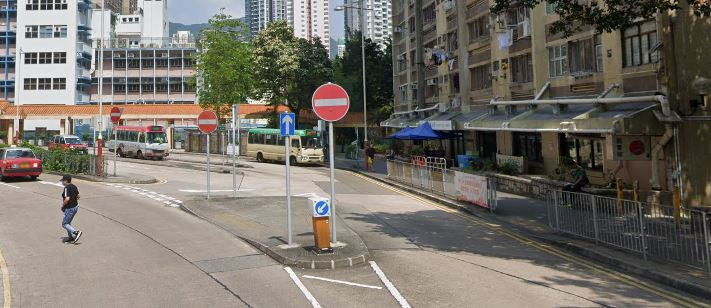No Enter: (311, 83, 351, 122), (197, 110, 219, 133), (109, 107, 121, 121)
One Way Traffic: (280, 110, 295, 138)
